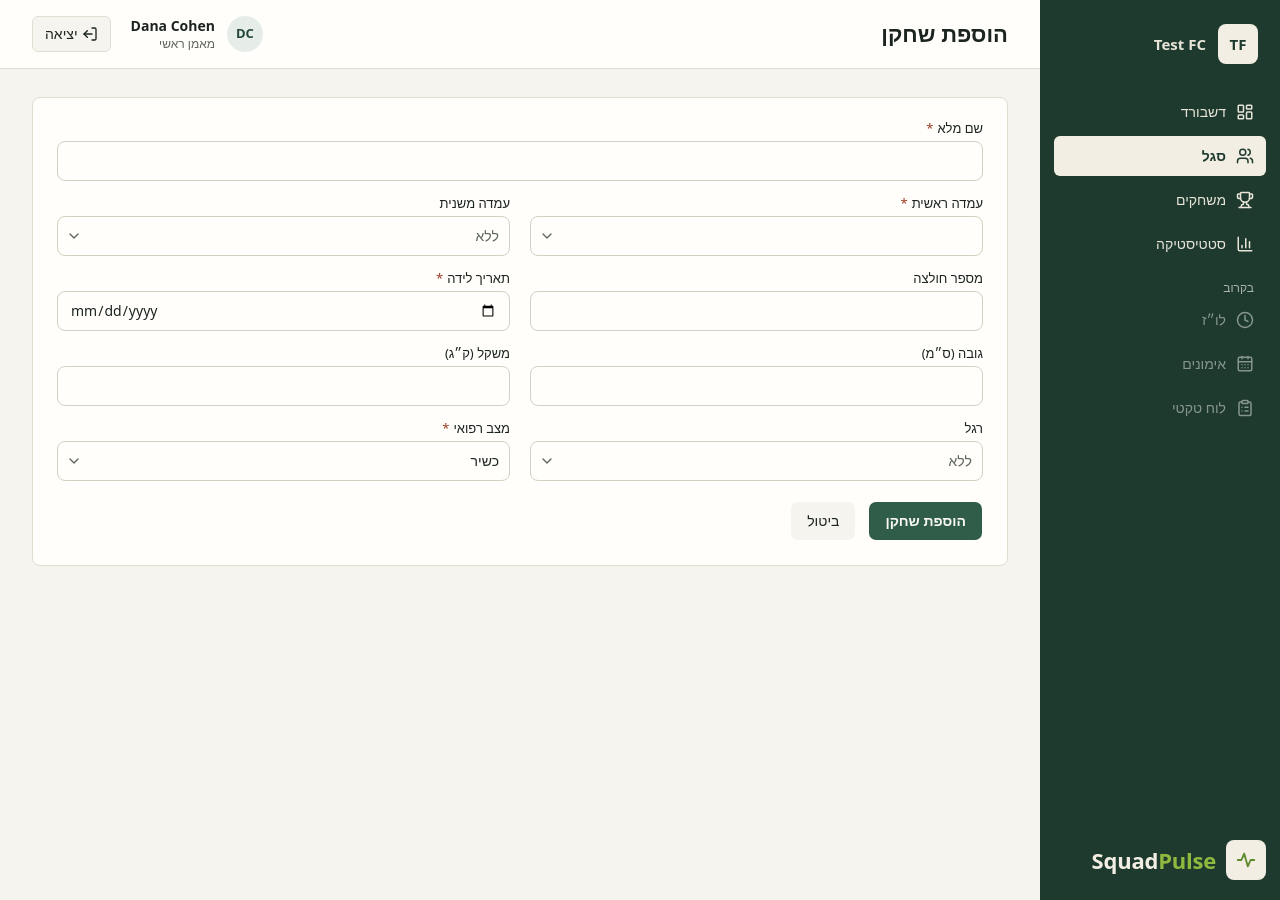
Scenario: the add-player form › sends nothing for an invalid form, shows each error and focuses the first
Expected: the heading "הוספת שחקן" is shown, [881,20,1008,48]
Expected: the button "הוספת שחקן" is shown, [868,501,983,541]
Step 1. Type "100" into the field labelled "מספר חולצה" → (756, 311), box [530,291,983,331]
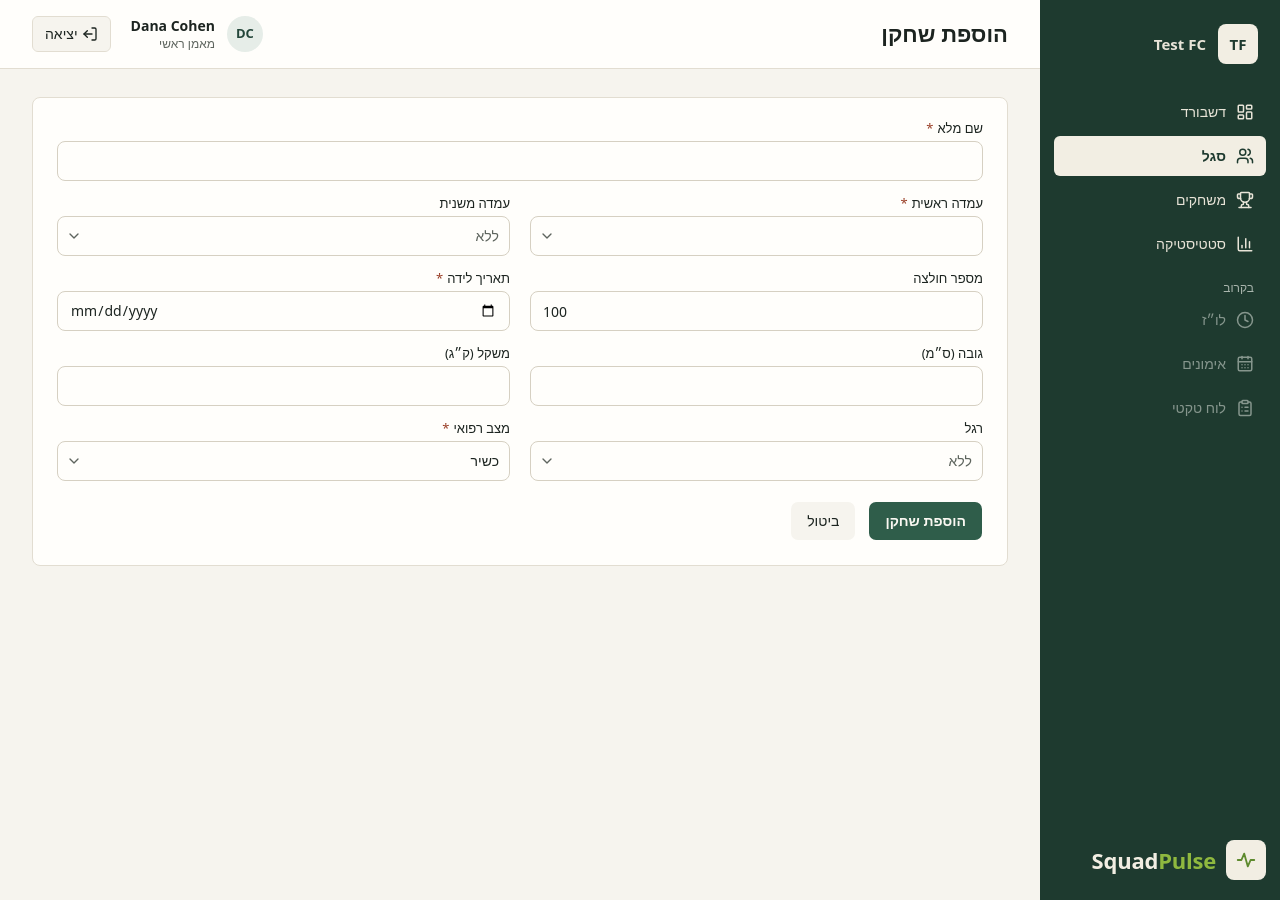
Step 2. Type "39" into the field labelled "משקל (ק״ג)" → (284, 386), box [57,366,510,406]
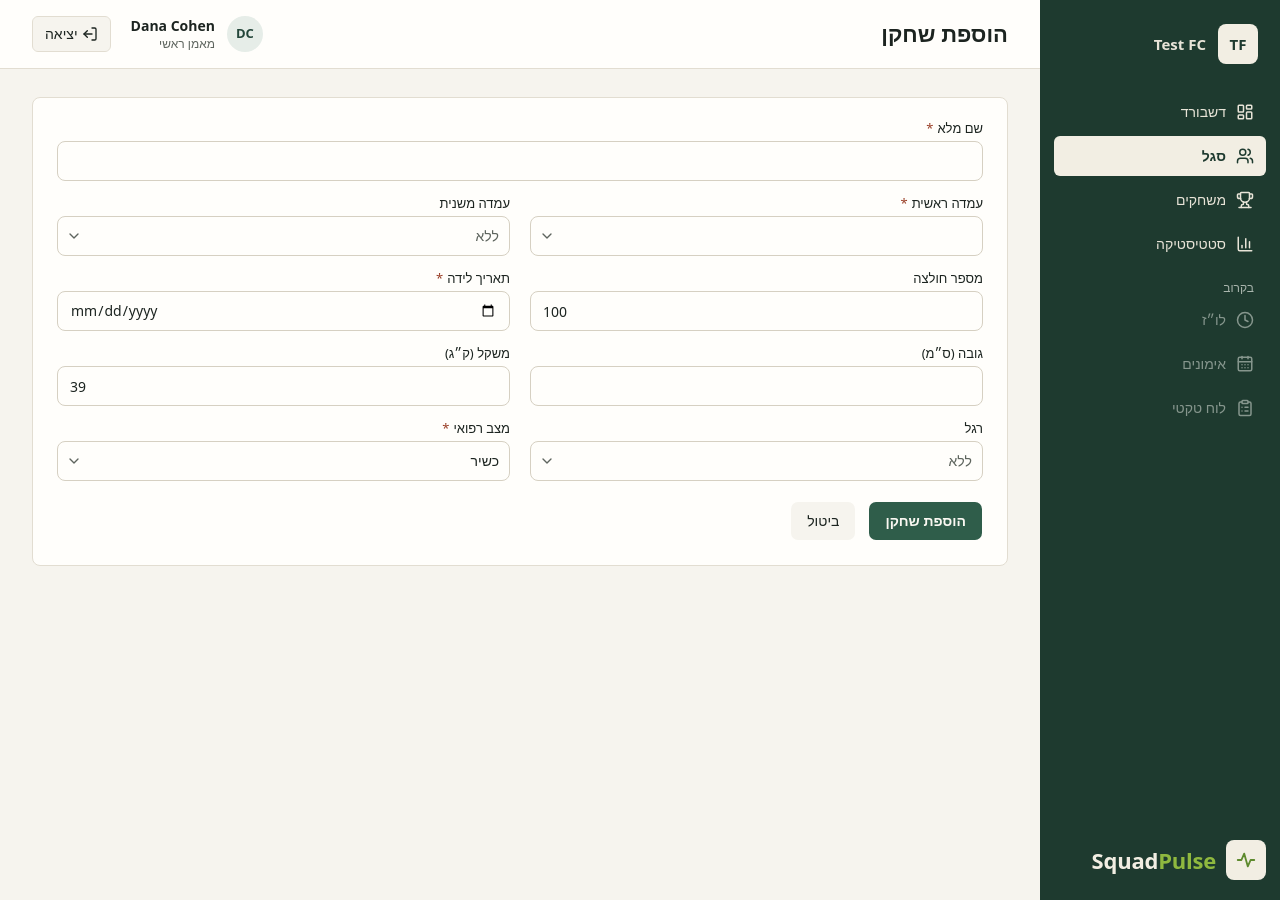
Step 3. Click the button "הוספת שחקן" → (926, 521), box [868,501,983,541]
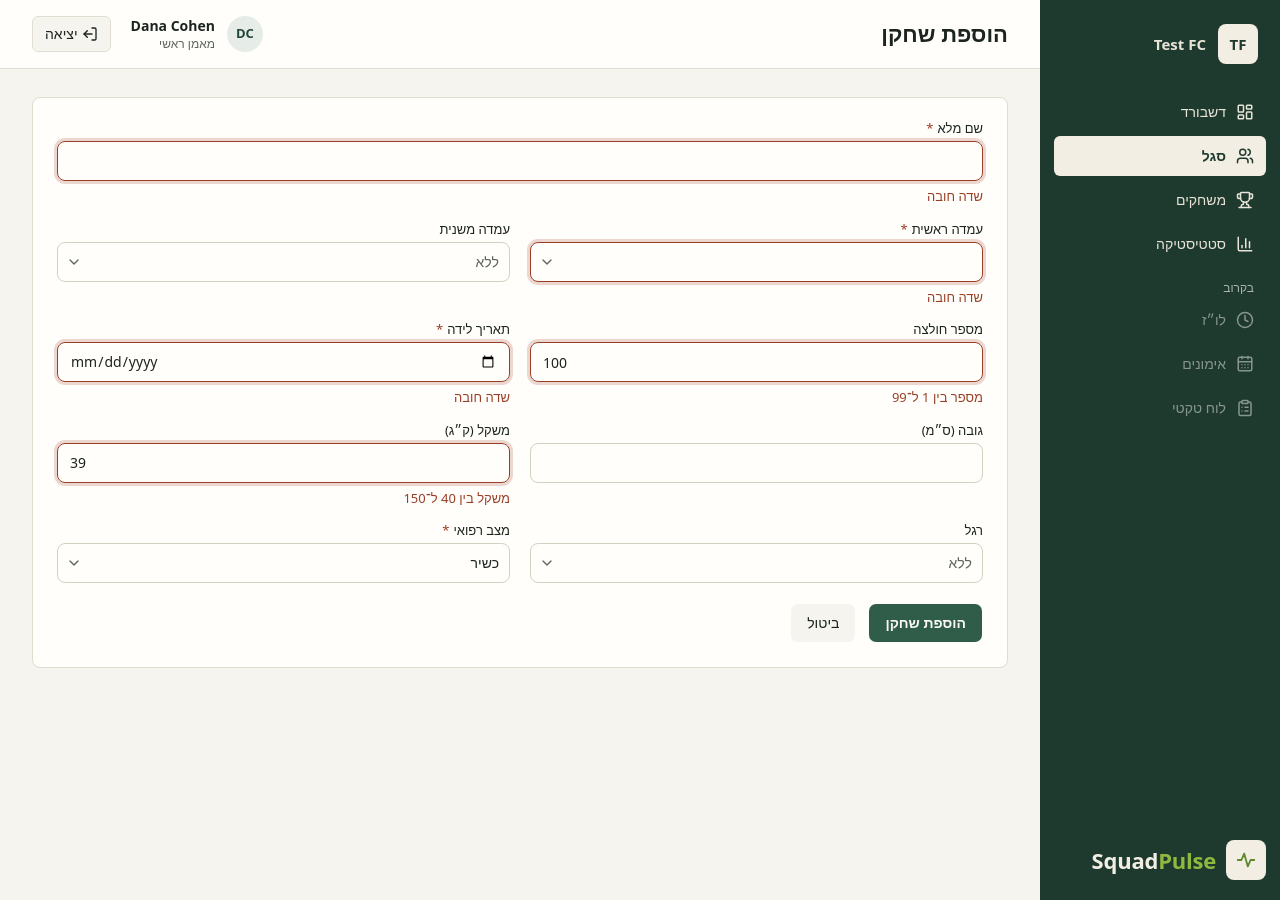
Expected: the text "שדה חובה" below "שם מלא" is shown, [927,187,983,205]
Expected: the text "מספר בין 1 ל־99" is shown, [892,388,983,406]
Expected: the text "משקל בין 40 ל־150" is shown, [403,488,510,506]
